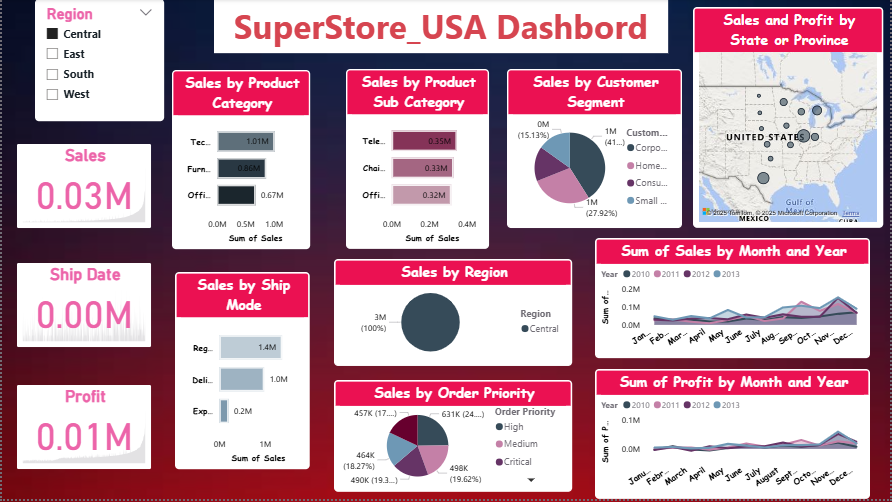

The dashboard page shown, as its layout file describes it:
{"tool":"powerbi","page":{"name":"Page 1","canvas":[1280,720],"ordinal":0},"visuals":[{"type":"clusteredBarChart","title":"Sales by Product Category","fields":{"Y":["Sum(Orders.Sales)"],"Category":["Orders.Product Category"]},"box":[244.8,102.2,198.7,257.8],"z":0},{"type":"clusteredBarChart","title":"Sales by Product Sub Category","fields":{"Y":["Sum(Orders.Sales)"],"Category":["Orders.Product Sub-Category"]},"box":[495.4,100.8,205.9,259.2],"z":1000},{"type":"clusteredBarChart","title":"Sales by Ship Mode","fields":{"Y":["Sum(Orders.Sales)"],"Category":["Orders.Ship Mode"]},"box":[249.1,393.1,194.4,283.7],"z":2000},{"type":"pieChart","title":" Sales by Region","fields":{"Category":["Orders.Region"],"Y":["Sum(Orders.Sales)"]},"box":[478.1,374.4,342.7,154.1],"z":3000},{"type":"pieChart","title":" Sales by Customer Segment","fields":{"Y":["Sum(Orders.Sales)"],"Category":["Orders.Customer Segment"]},"box":[727.2,100.8,252,229],"z":4000},{"type":"pieChart","title":" Sales by Order Priority","fields":{"Y":["Sum(Orders.Sales)"],"Category":["Orders.Order Priority"]},"box":[478.1,548.6,342.7,161.3],"z":5000},{"type":"areaChart","fields":{"Y":["Sum(Orders.Sales)"],"Series":["Orders.Order Date.Variation.Date Hierarchy.Year"],"Category":["Orders.Order Date.Variation.Date Hierarchy.Month","Orders.Order Date.Variation.Date Hierarchy.Day"]},"box":[853.9,344.2,396,172.8],"z":6000},{"type":"areaChart","fields":{"Series":["Orders.Order Date.Variation.Date Hierarchy.Year"],"Category":["Orders.Order Date.Variation.Date Hierarchy.Month","Orders.Order Date.Variation.Date Hierarchy.Day"],"Y":["Sum(Orders.Profit)"]},"box":[853.9,532.8,396,187.2],"z":7000},{"type":"slicer","fields":{"Values":["Orders.Region"]},"box":[47.5,0,185.8,175.7],"z":8000},{"type":"map","title":" Sales and Profit by State or Province","fields":{"Category":["Orders.State or Province"],"Size":["Sum(Orders.Sales)"]},"box":[995,11.5,273.6,318.2],"z":9000},{"type":"kpi","title":" Sales","fields":{"Indicator":["Sum(Orders.Sales)"],"TrendLine":["Orders.Sales"]},"box":[21.6,208.8,193,121],"z":10000},{"type":"kpi","title":" Ship Date ","fields":{"TrendLine":["Orders.Ship Date"],"Indicator":["CountNonNull(Orders.Ship Date)"]},"box":[21.6,380.2,193,121],"z":11000},{"type":"kpi","title":" Profit","fields":{"Indicator":["Sum(Orders.Profit)"],"TrendLine":["Orders.Profit"]},"box":[21.6,555.8,193,121],"z":12000},{"type":"textbox","box":[305.3,0,653.8,77.8],"z":13000}]}

Visuals, with their boxes in screenshot pixels (x1, y1, x2, y2), scaled from the page's 1280x720 canvas onto the 892x502 screenshot:
"Sales by Product Category" clusteredBarChart: <box>171,71,309,251</box>
"Sales by Product Sub Category" clusteredBarChart: <box>345,70,489,251</box>
"Sales by Ship Mode" clusteredBarChart: <box>174,274,309,472</box>
" Sales by Region" pieChart: <box>333,261,572,368</box>
" Sales by Customer Segment" pieChart: <box>507,70,682,230</box>
" Sales by Order Priority" pieChart: <box>333,382,572,495</box>
areaChart - Sum(Orders.Sales) x Orders.Order Date.Variation.Date Hierarchy.Year: <box>595,240,871,360</box>
areaChart - Orders.Order Date.Variation.Date Hierarchy.Year x Orders.Order Date.Variation.Date Hierarchy.Month: <box>595,371,871,501</box>
slicer - Orders.Region: <box>33,0,163,123</box>
" Sales and Profit by State or Province" map: <box>693,8,884,230</box>
" Sales" kpi: <box>15,146,150,230</box>
" Ship Date " kpi: <box>15,265,150,349</box>
" Profit" kpi: <box>15,388,150,472</box>
textbox: <box>213,0,668,54</box>
